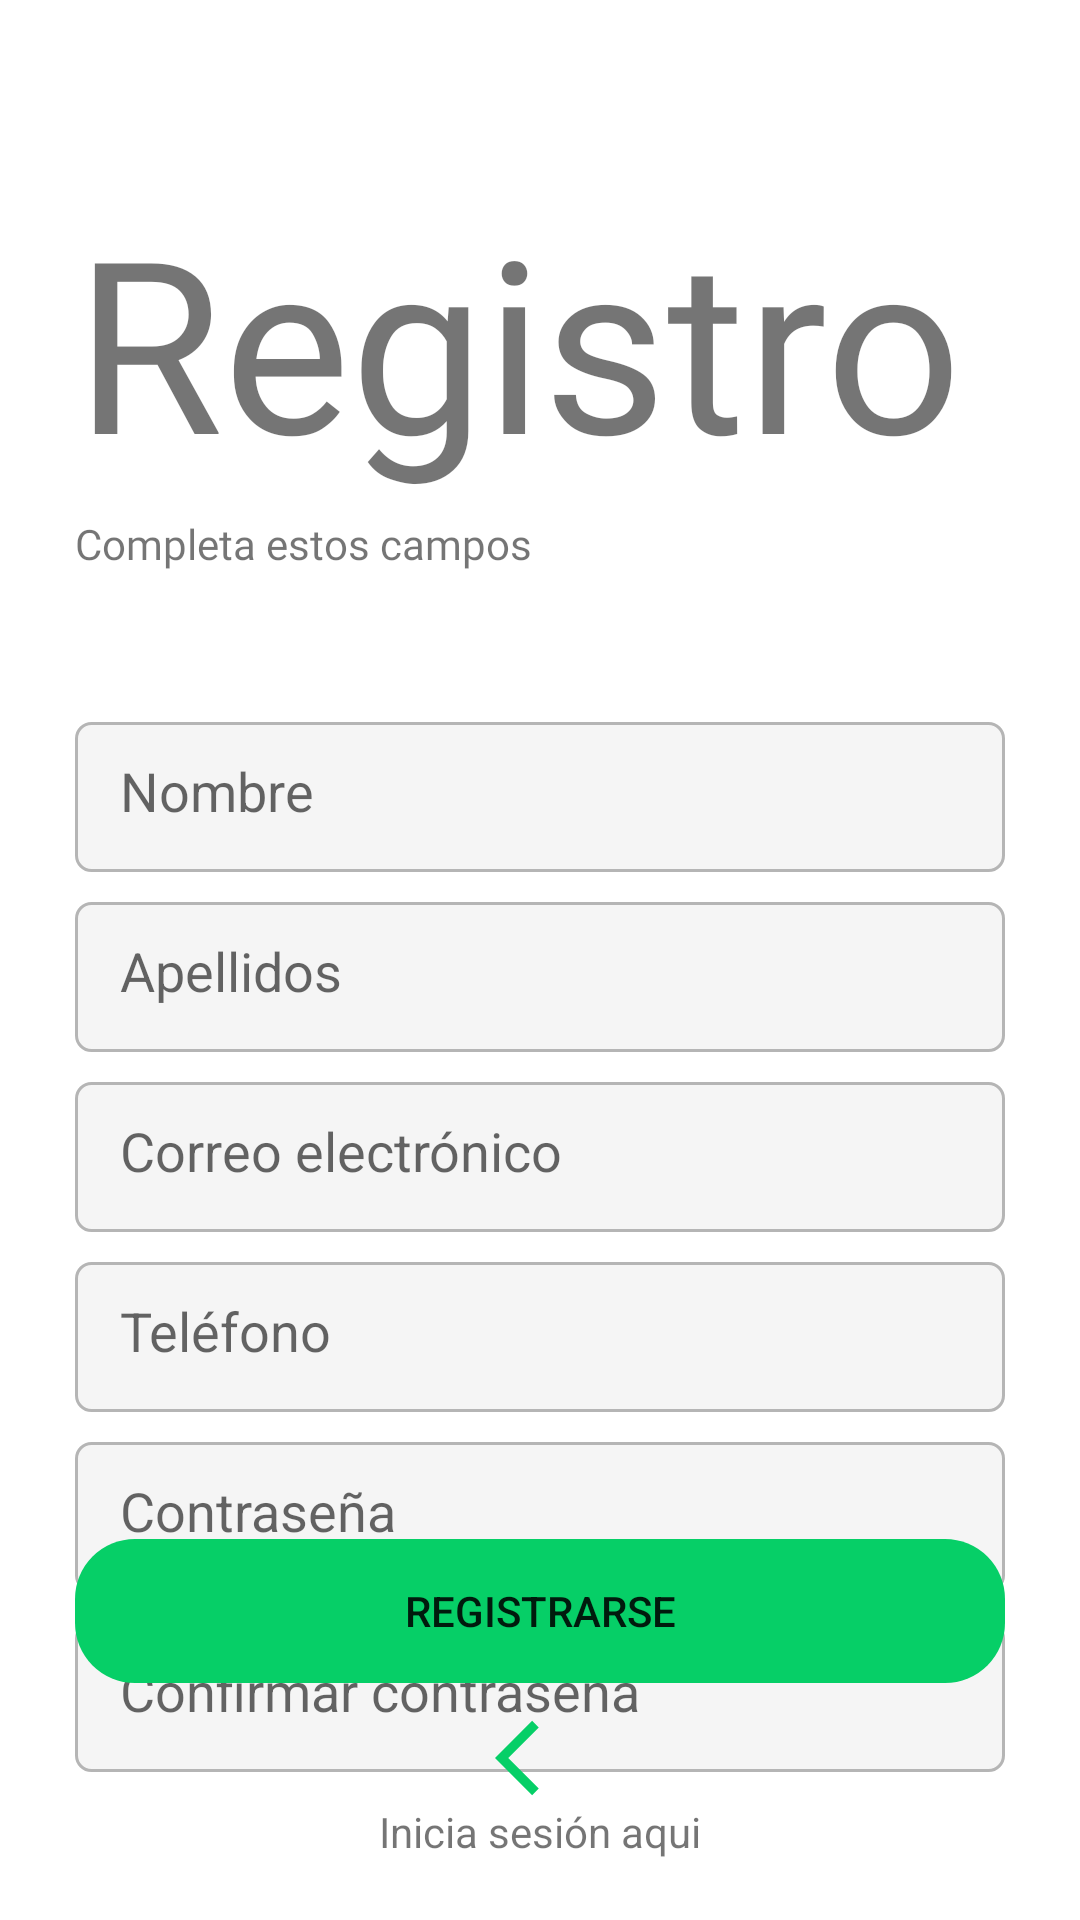

Icons on this 1080*1920 Android screen, each with the point to tap as (x,y):
arrow left: (540,1758)
